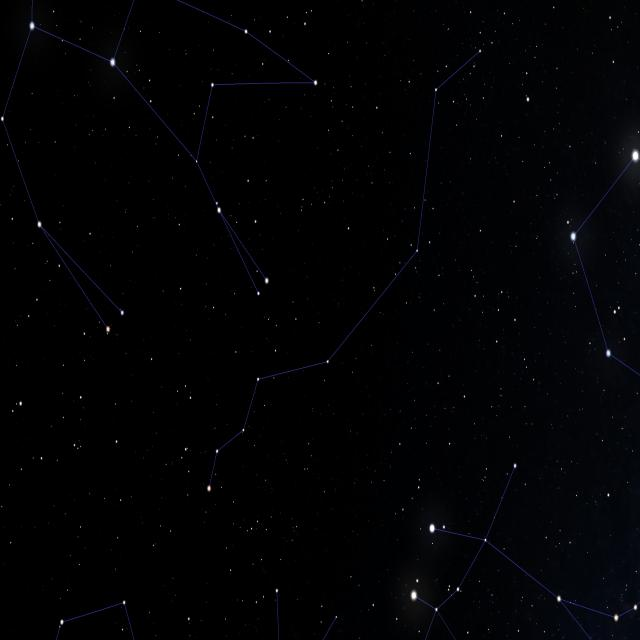Lynx: (205, 19, 511, 492)
